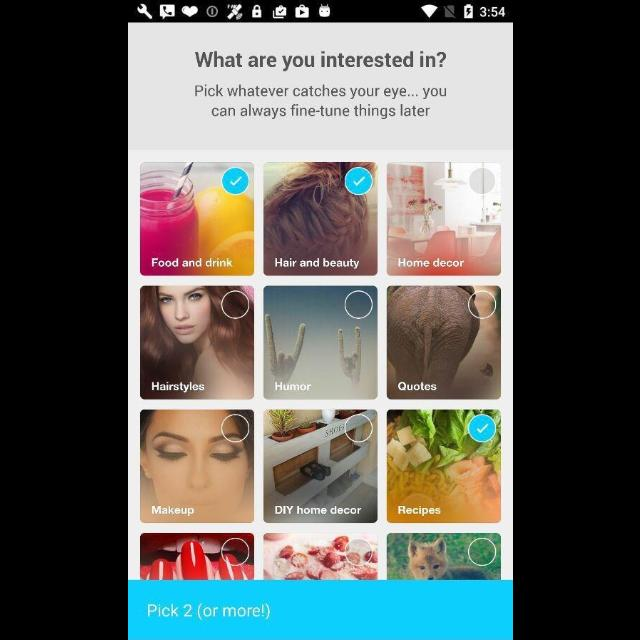checkbox: (343, 167, 372, 196), (468, 290, 496, 320), (343, 538, 372, 566), (220, 413, 248, 442), (220, 538, 248, 566), (467, 538, 495, 566), (344, 414, 372, 442), (467, 414, 495, 442), (344, 291, 372, 319), (220, 290, 248, 318), (221, 167, 249, 195), (468, 168, 496, 195)
image: (386, 410, 500, 524), (263, 408, 377, 522), (140, 409, 254, 523), (386, 285, 500, 399), (262, 286, 376, 400), (140, 285, 254, 399), (386, 163, 500, 277), (263, 162, 377, 276), (140, 162, 254, 276), (386, 534, 500, 580), (262, 534, 376, 580), (139, 534, 253, 580)
text: (194, 84, 446, 120), (194, 51, 446, 73), (147, 603, 269, 621), (274, 258, 358, 270), (274, 506, 362, 516), (152, 258, 232, 268), (398, 258, 464, 268), (150, 381, 203, 393), (152, 505, 194, 517), (398, 506, 440, 516), (396, 382, 436, 392), (274, 382, 312, 391)
uppertaskbar: (128, 1, 512, 23)
